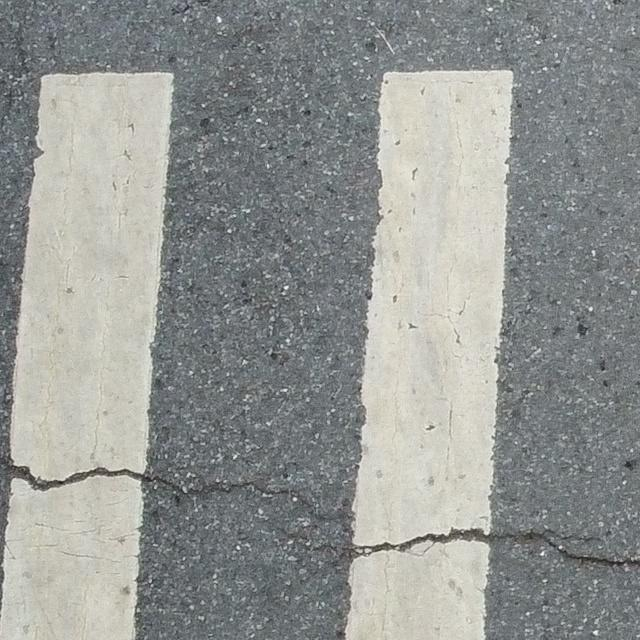TransverseCrack: (327, 529, 640, 569), (10, 464, 308, 505)
